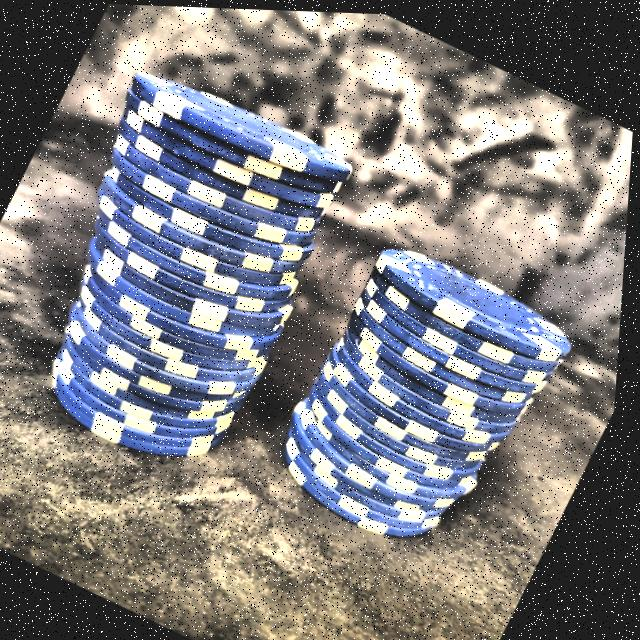Chip: (0, 26, 400, 492), (241, 201, 618, 585)
